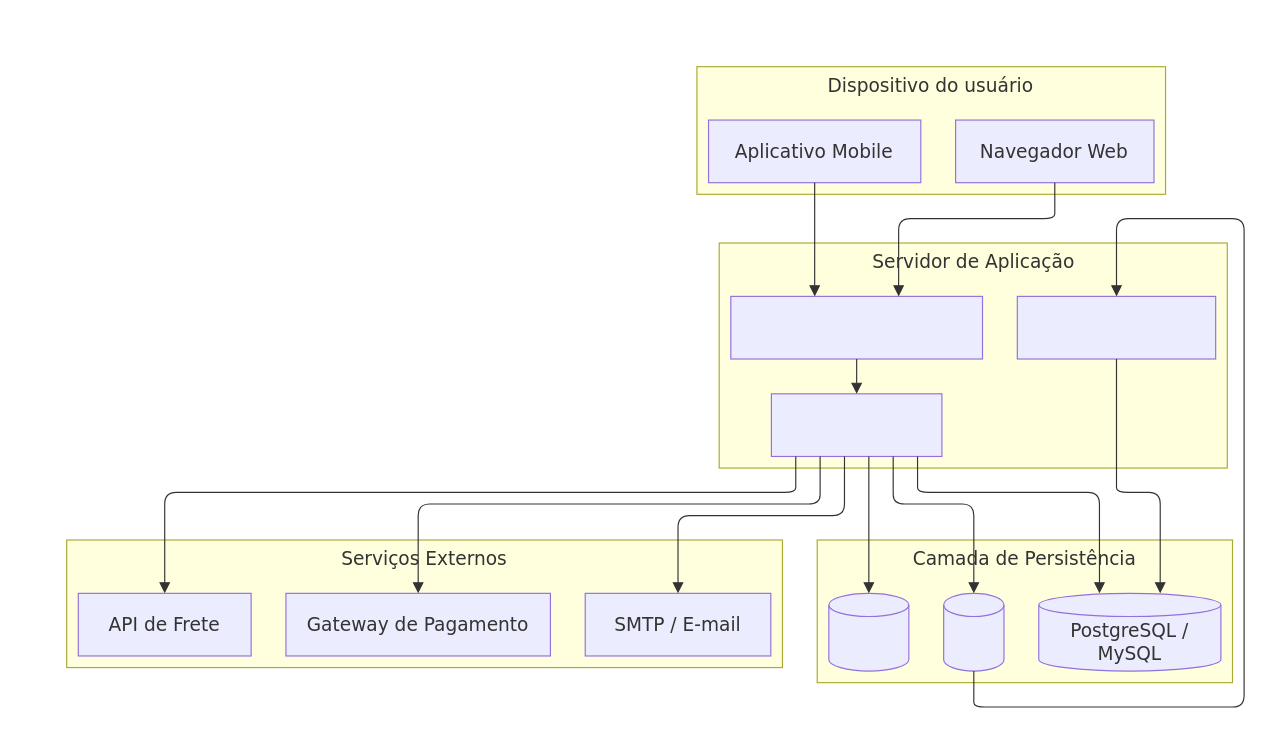
This 1275x738 diagram has some shape labels left out. Each missing label, with the centre of its shape:
Backend API: the point at 856,424
Nginx / Reverse Proxy: the point at 856,327
Redis: the point at 973,631
Storage: the point at 868,631
Worker de Filas: the point at 1116,327
